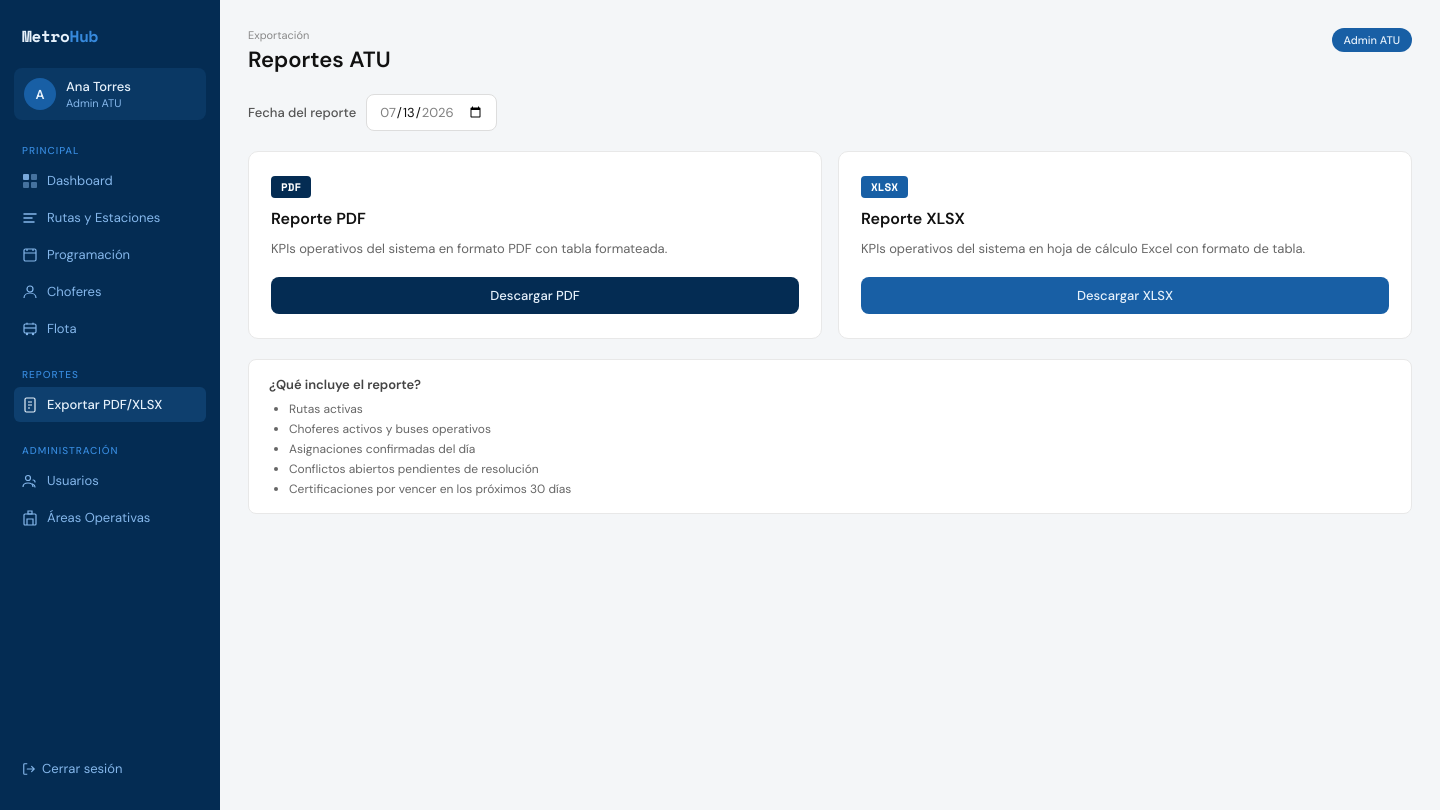
Scenario: Reportes (RF07) › muestra el detail del backend cuando la exportación falla
Click the button "Descargar PDF". click: (535, 295)
box: [271,276,799,314]
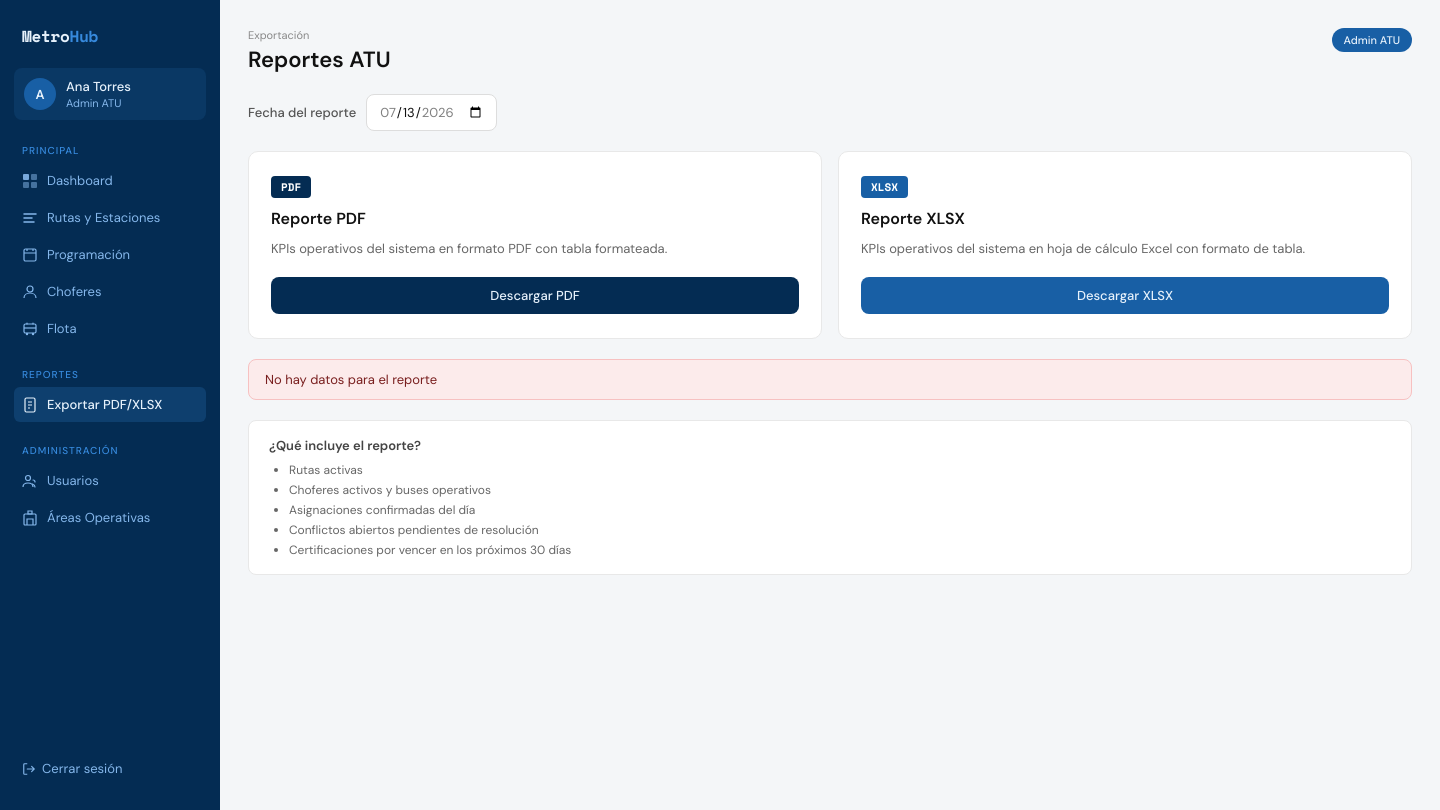
Check: the text "No hay datos para el reporte" is shown, box [265,370,437,388]
